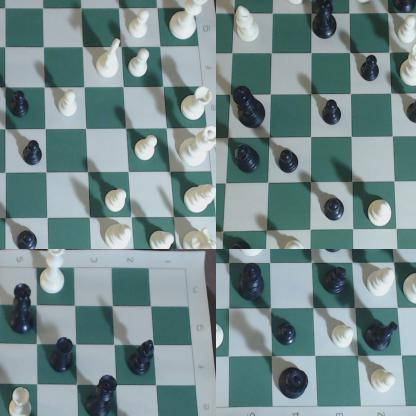black-bishop: (231, 142, 264, 178), (129, 338, 158, 378), (322, 269, 350, 301)
black-king: (231, 82, 269, 133), (240, 264, 267, 304)
black-knight: (366, 320, 401, 351), (397, 1, 416, 18)
black-pawn: (360, 53, 386, 93), (276, 145, 304, 179), (18, 137, 47, 168), (271, 317, 298, 350), (321, 97, 347, 128), (322, 195, 347, 225), (10, 89, 30, 119), (226, 233, 256, 249), (15, 229, 38, 249), (410, 97, 416, 129)
black-queen: (9, 283, 36, 340), (91, 372, 120, 416), (279, 366, 314, 402), (315, 1, 341, 46)
black-rook: (52, 332, 79, 379), (318, 250, 350, 257)
white-bishop: (230, 4, 263, 50), (364, 268, 398, 301), (183, 184, 216, 217), (96, 224, 135, 249)
white-king: (167, 1, 212, 47), (399, 259, 416, 308)
white-knight: (92, 37, 124, 82), (185, 229, 216, 249), (283, 1, 311, 10)
white-pawn: (367, 197, 399, 233), (123, 8, 156, 39), (126, 49, 156, 81), (52, 91, 81, 122), (102, 188, 130, 218), (135, 136, 163, 164), (371, 368, 398, 397), (331, 325, 356, 353), (279, 234, 320, 249), (150, 227, 176, 249), (353, 1, 382, 13)
white-queen: (38, 250, 70, 299), (178, 129, 216, 168), (400, 45, 416, 87), (237, 250, 268, 260)
white-rook: (181, 85, 216, 122), (8, 386, 39, 416), (217, 320, 227, 351)
